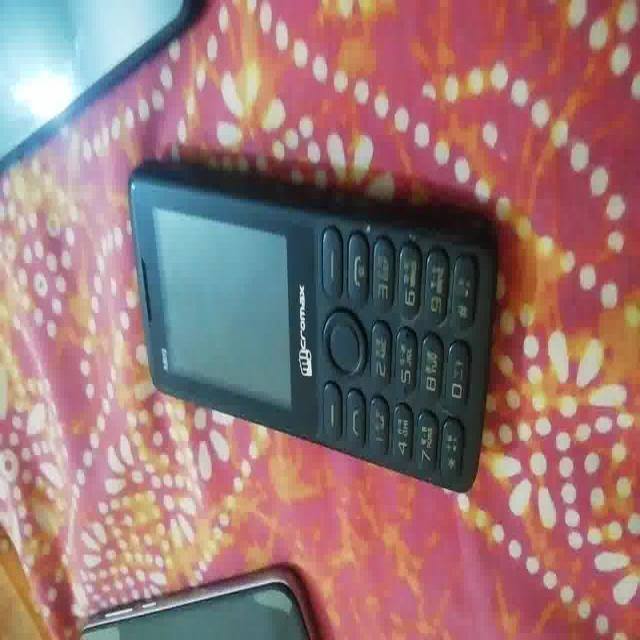phone: (121, 168, 497, 504), (0, 0, 205, 151), (76, 552, 334, 640)
